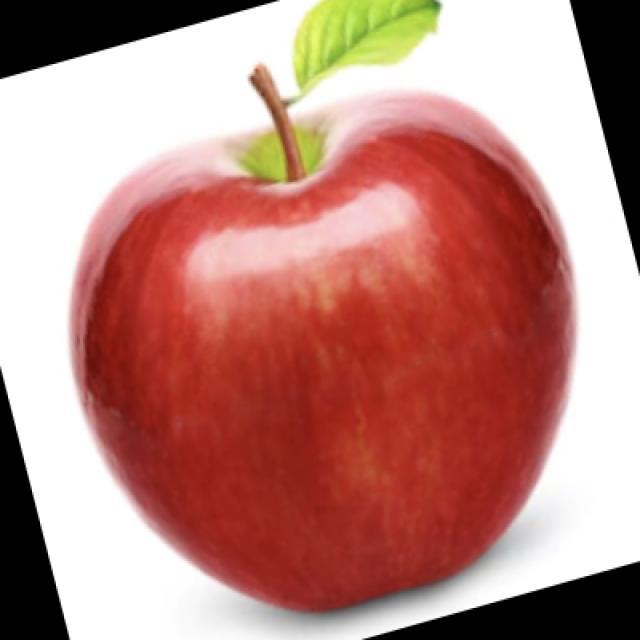Fresh Apple: (65, 90, 565, 625)
